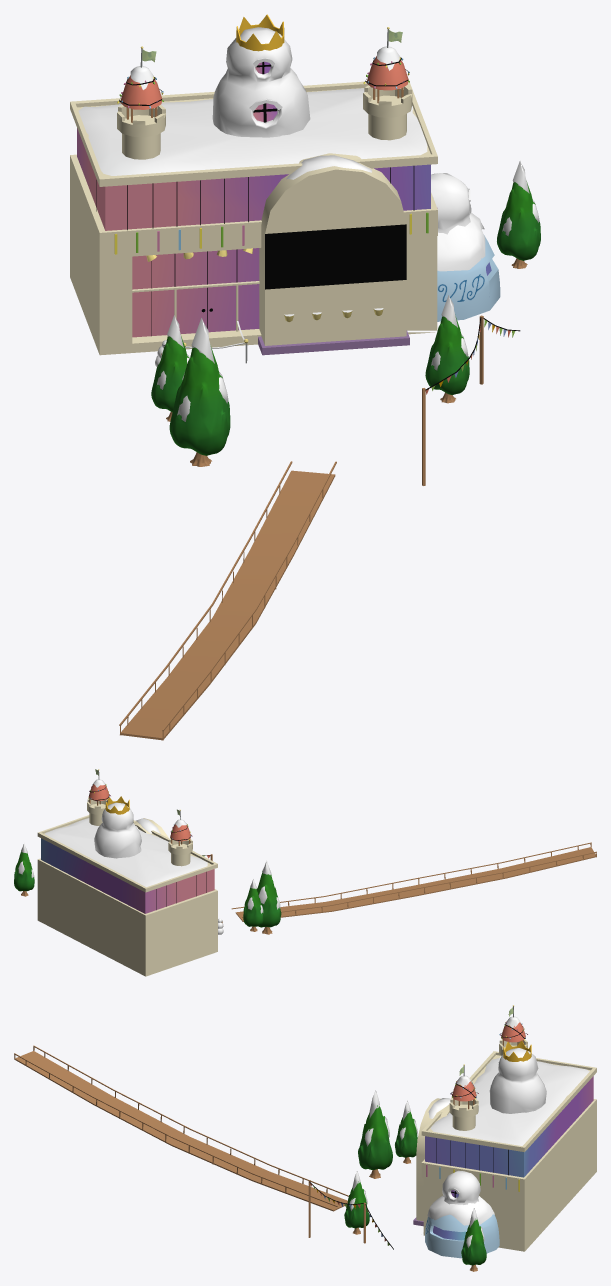
File: Neighborhood_PoomPoomPalace_02.fbx
3 renders of one model, top to bottom at view 1: azimuth 30°, elevation 25°; view 2: azimuth 150°, elevation 25°; view 3: azimuth 270°, elevation 25°, orthographic. The views are drawn at different scales.
Visible parts, largest first — view 1: Building_PoomPoomPalace, PoomPoomSign, pasted__Object_Bridge, polySurface144, Building_WatchTower, polySurface143, polySurface142, polySurface141; view 2: Building_PoomPoomPalace, pasted__Object_Bridge, polySurface144, Building_WatchTower, polySurface143, polySurface141; view 3: Building_PoomPoomPalace, pasted__Object_Bridge, polySurface144, Building_WatchTower, polySurface143, PoomPoomSign, polySurface141, polySurface142, Object_Flag_01.
Boxes of the visible parts, x1,y1,x2,y2 form: Building_PoomPoomPalace: (70,14,500,363); PoomPoomSign: (259,153,406,345); pasted__Object_Bridge: (119,461,336,740); polySurface144: (169,318,230,466); Building_WatchTower: (363,27,412,140); polySurface143: (497,161,540,268); polySurface142: (425,295,469,403); polySurface141: (151,315,189,421); Building_PoomPoomPalace: (37,796,217,976); pasted__Object_Bridge: (231,842,596,921); polySurface144: (257,860,281,934); Building_WatchTower: (87,769,110,825); polySurface143: (14,843,34,896); polySurface141: (243,878,263,931); Building_PoomPoomPalace: (413,1005,596,1258); pasted__Object_Bridge: (14,1045,348,1211); polySurface144: (358,1090,392,1178); Building_WatchTower: (449,1064,478,1130); polySurface143: (461,1208,486,1271); PoomPoomSign: (416,1098,449,1221); polySurface141: (395,1101,417,1163); polySurface142: (344,1171,369,1234); Object_Flag_01: (309,1181,393,1249).
Size of the model in its own units: 3333 by 1368 by 3599.
